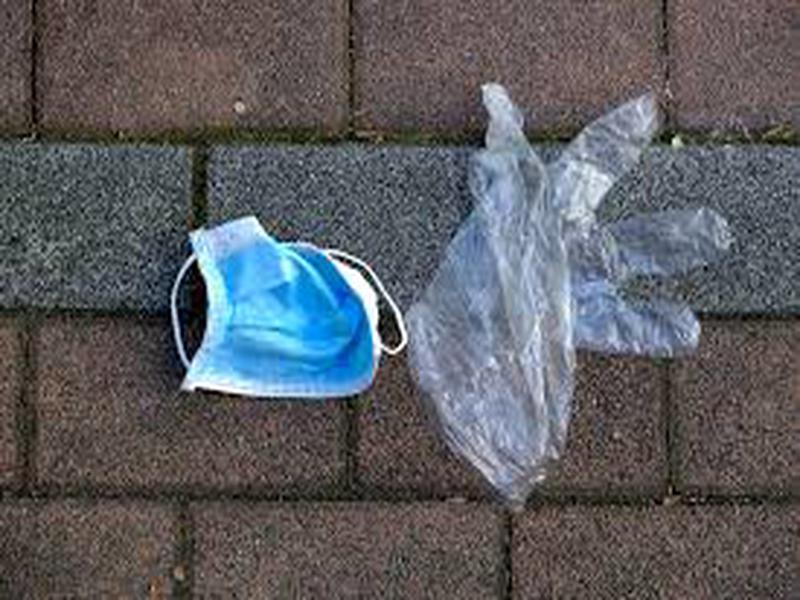gloves: (397, 74, 734, 506)
mask: (155, 213, 409, 407)
